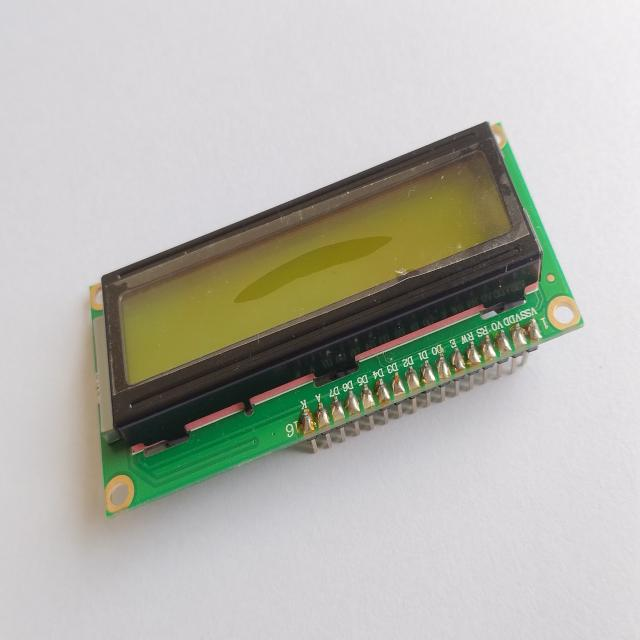lcd: (88, 118, 584, 517)
